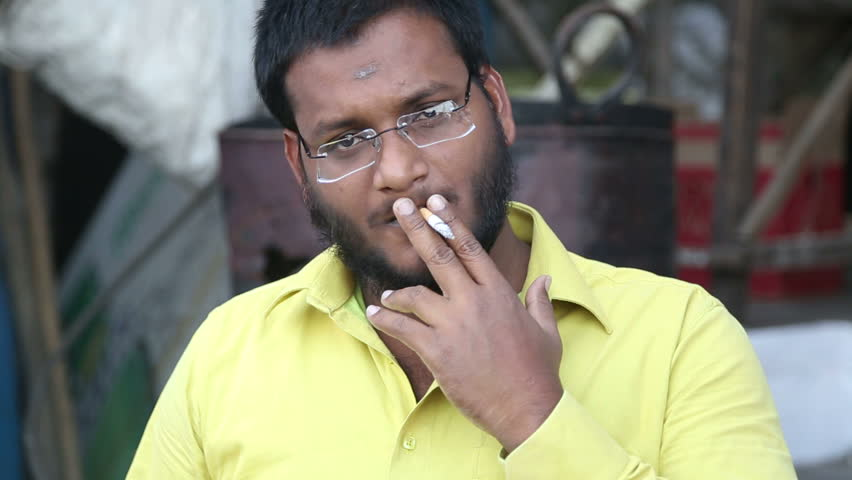cigarette: (412, 202, 456, 249)
